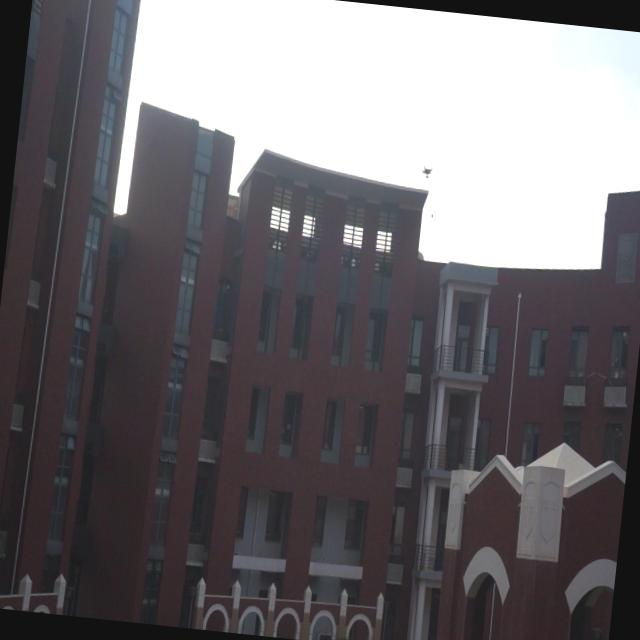drone: (418, 162, 434, 184)
